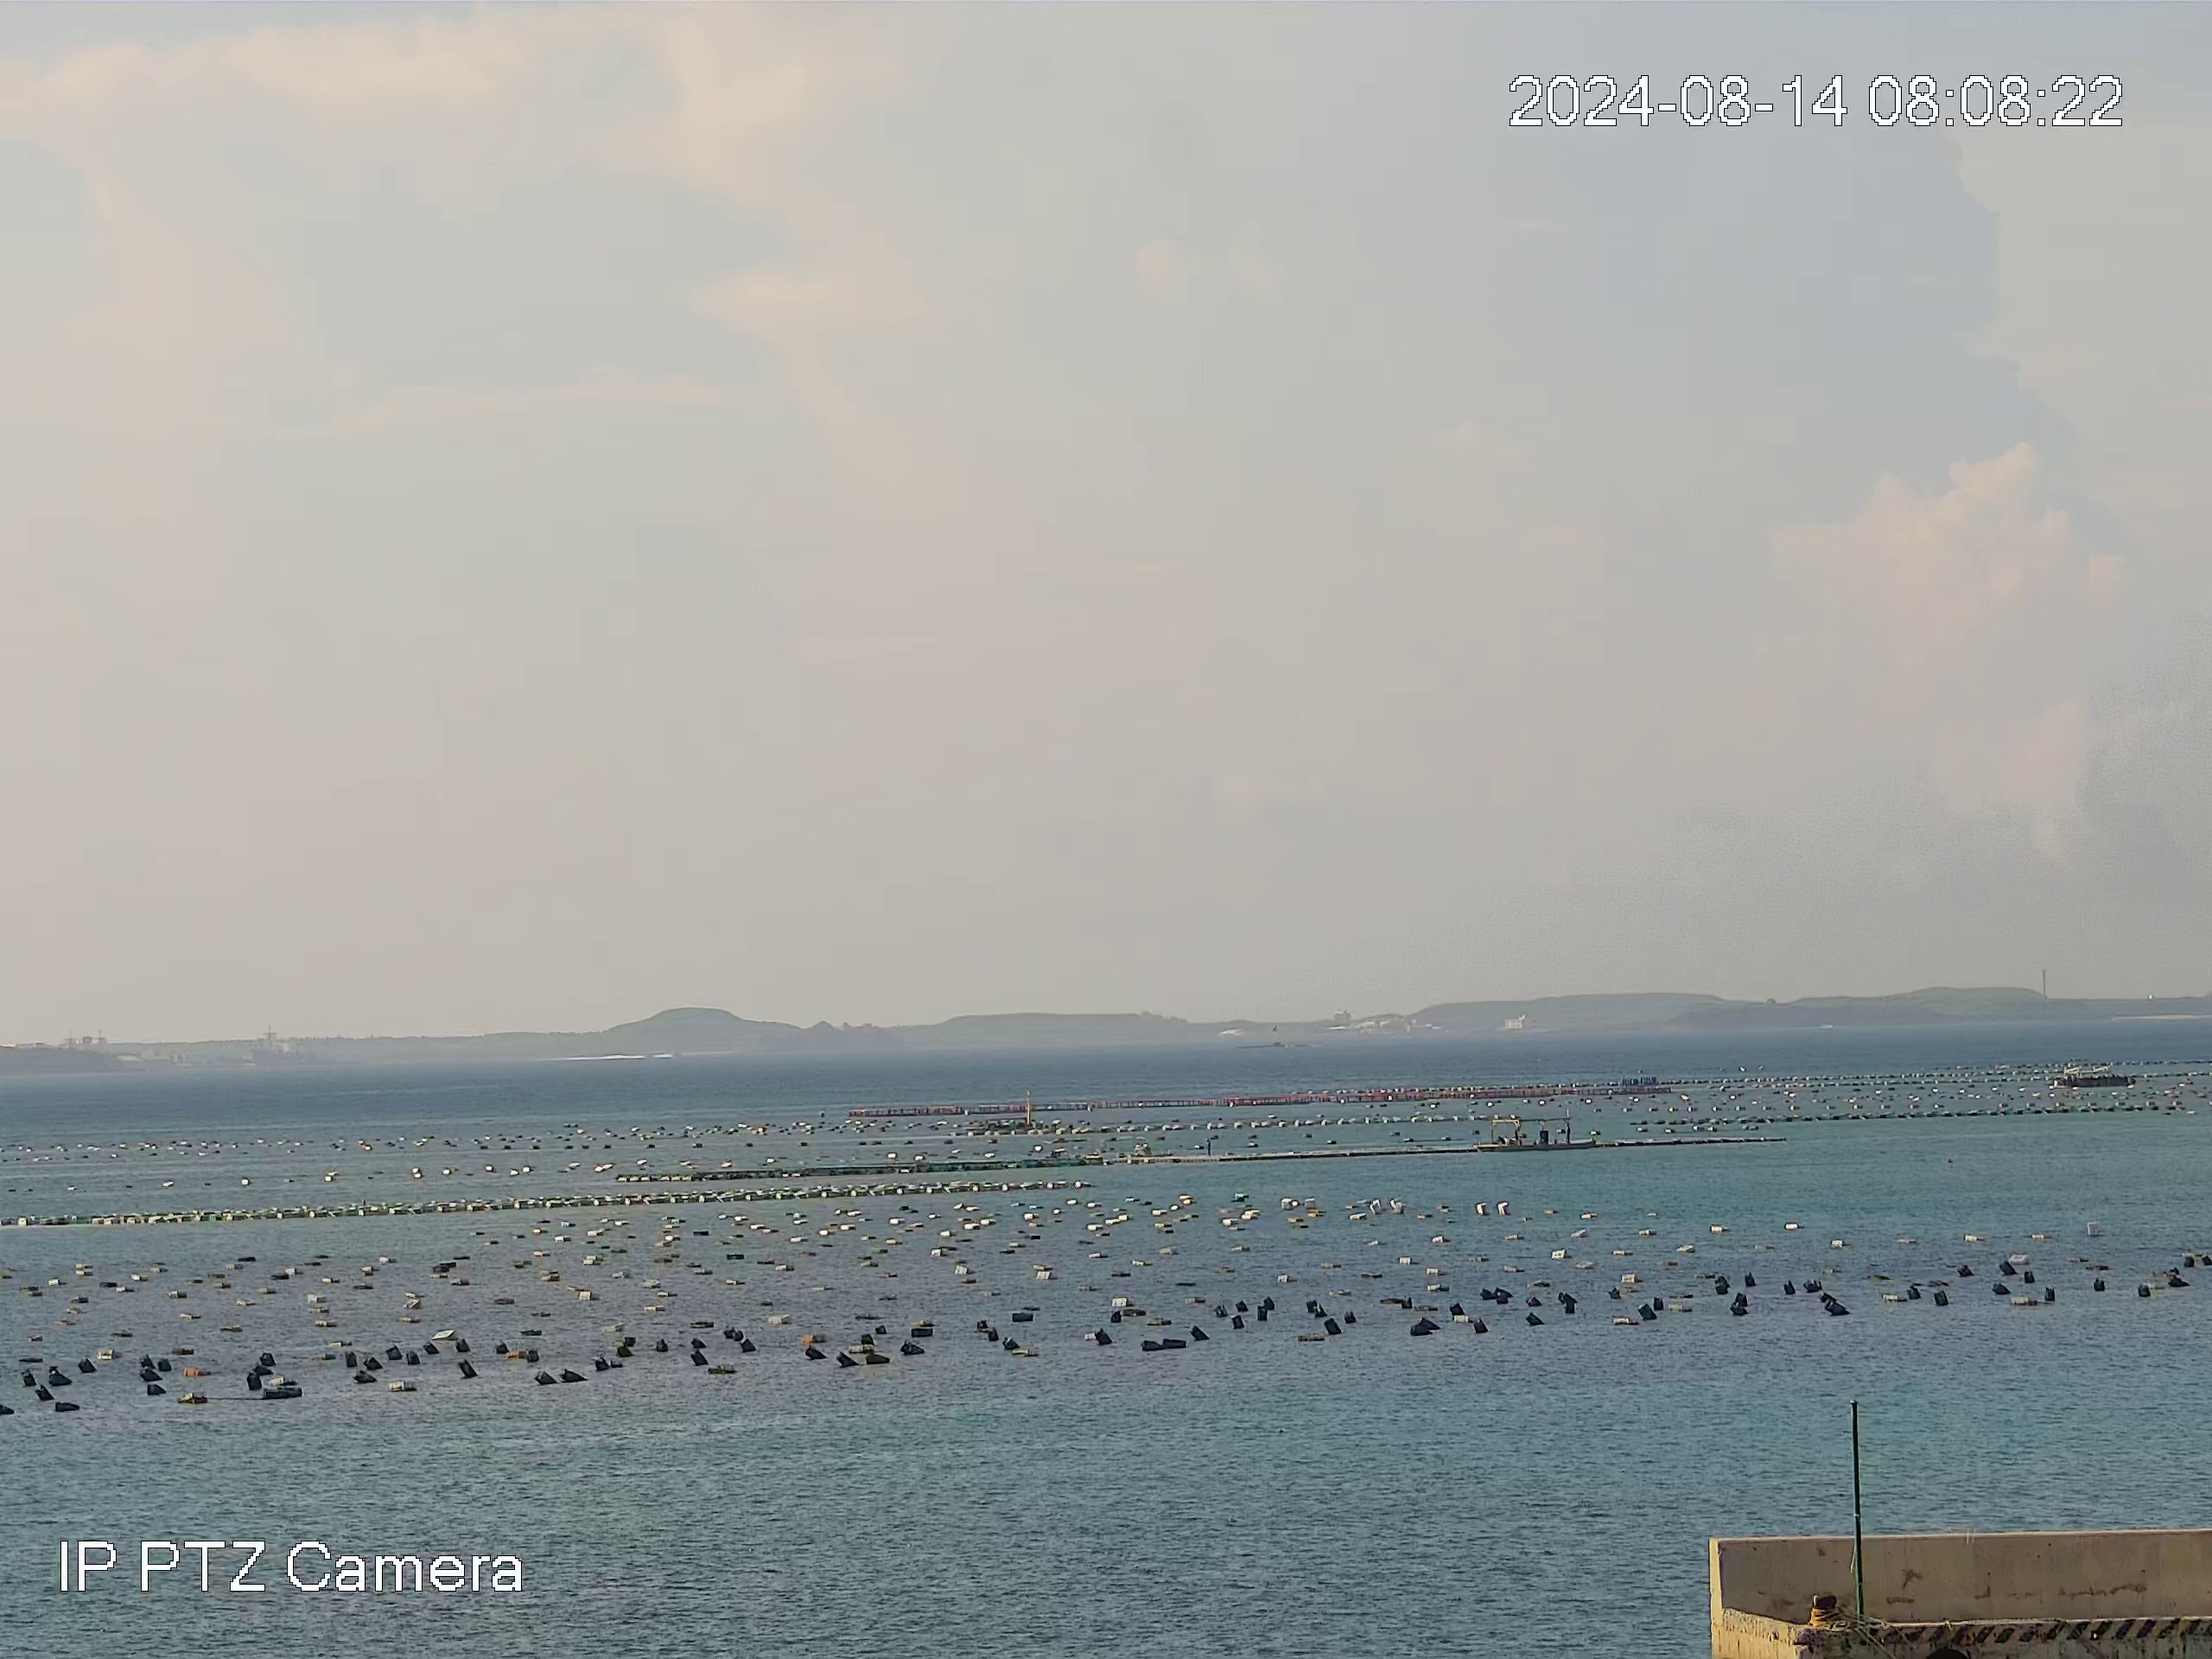boat: (1477, 1110, 1601, 1152), (2052, 1061, 2137, 1089)
